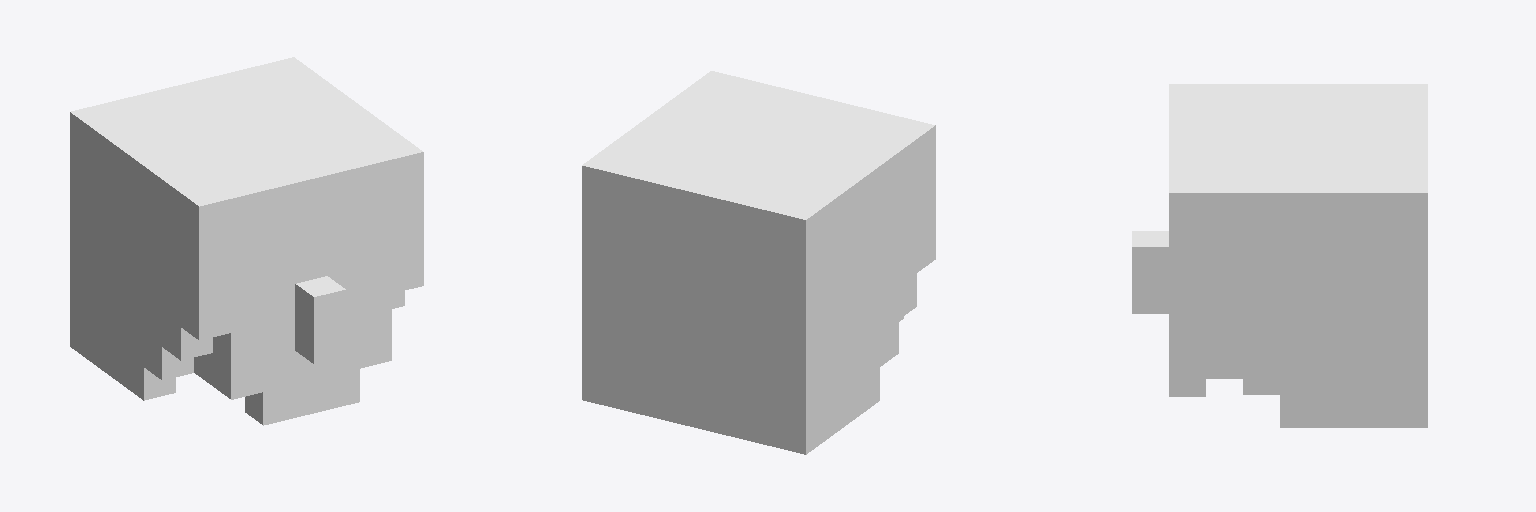
Rendered from emily2.obj.
The picture shows the model from 3 angles: view 1: azimuth 30°, elevation 25°; view 2: azimuth 150°, elevation 25°; view 3: azimuth 270°, elevation 25°; orthographic projection.
Visible parts, largest first — view 1: object 1; view 2: object 1; view 3: object 1.
Part boxes in pixels (left/top/right/bottom): object 1: left=70, top=57, right=423, bottom=425; object 1: left=582, top=71, right=935, bottom=454; object 1: left=1132, top=84, right=1427, bottom=427.
Bounding box in the file's own units: 0.7 × 0.7 × 0.8.